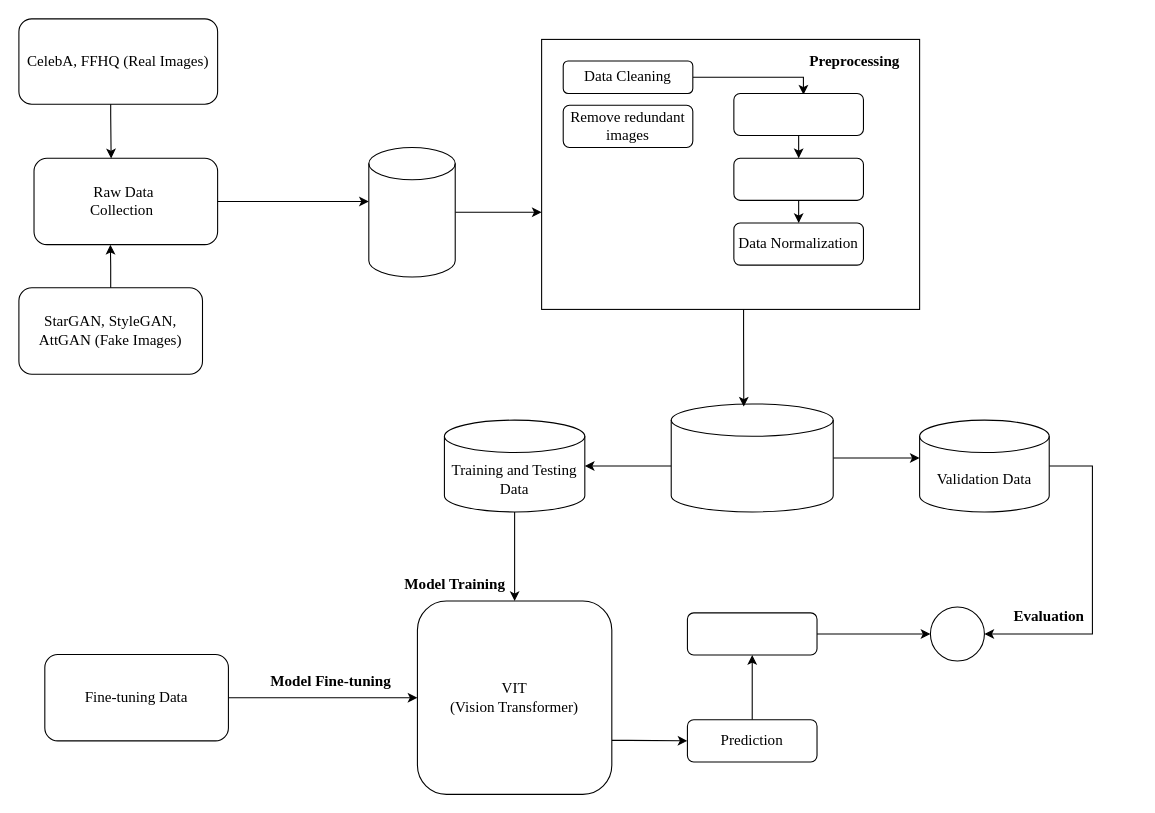
This 1155x813 diagram has some shape labels left out. Each missing label, with the centre of its shape:
Data Integration: (x=798, y=114)
Data Resizing: (x=798, y=178)
Dataset Formation: (x=411, y=211)
ML Trainable Dataset: (x=751, y=457)
Predicted Value: (x=751, y=633)
